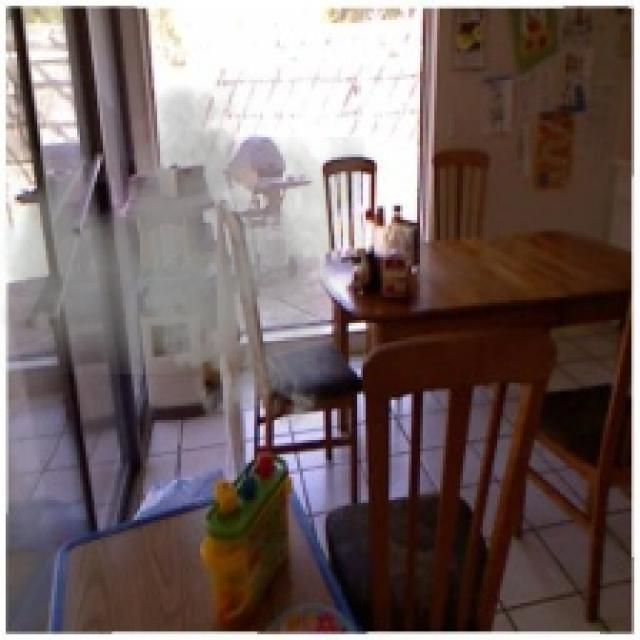Smoke: (0, 71, 366, 440)
